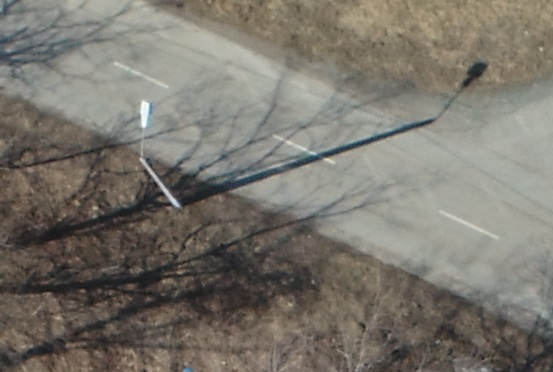opora: (137, 94, 235, 215)
